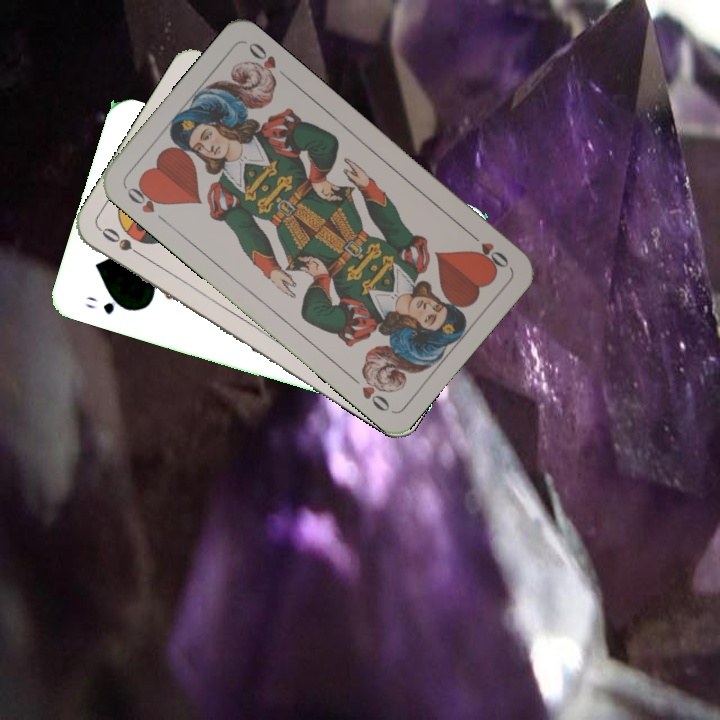GO: (82, 292, 134, 318)
HO: (121, 178, 170, 227), (464, 227, 512, 272)
SO: (96, 223, 149, 262)
